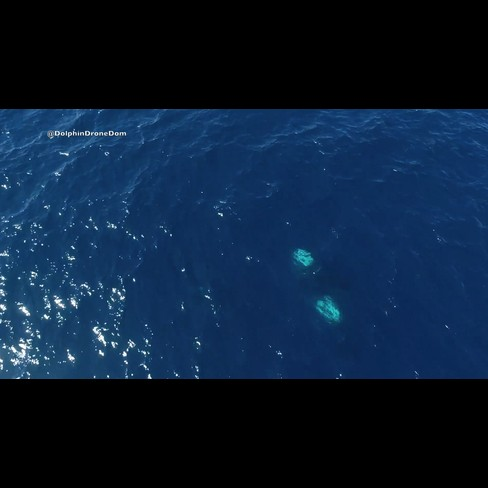orca: (279, 235, 331, 286), (307, 294, 351, 337)
